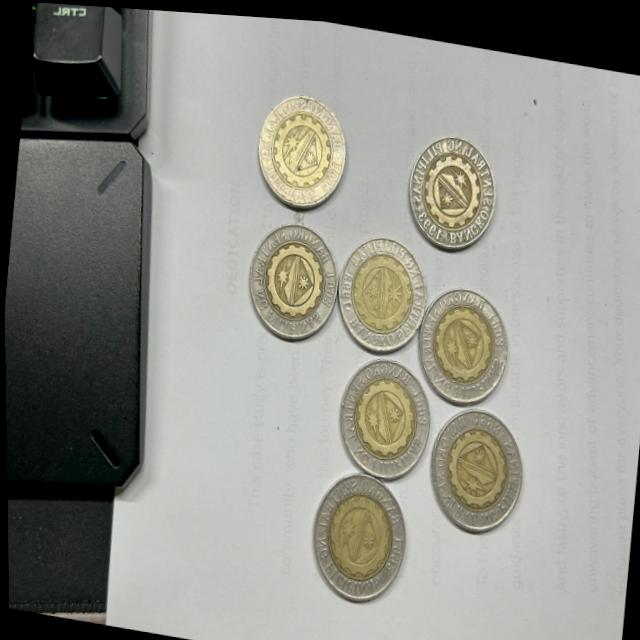10_Old_Back: (425, 398, 517, 533), (311, 465, 407, 594), (241, 211, 337, 338), (254, 82, 349, 205), (407, 121, 495, 246), (416, 277, 509, 391), (334, 351, 418, 475), (335, 224, 421, 345)
